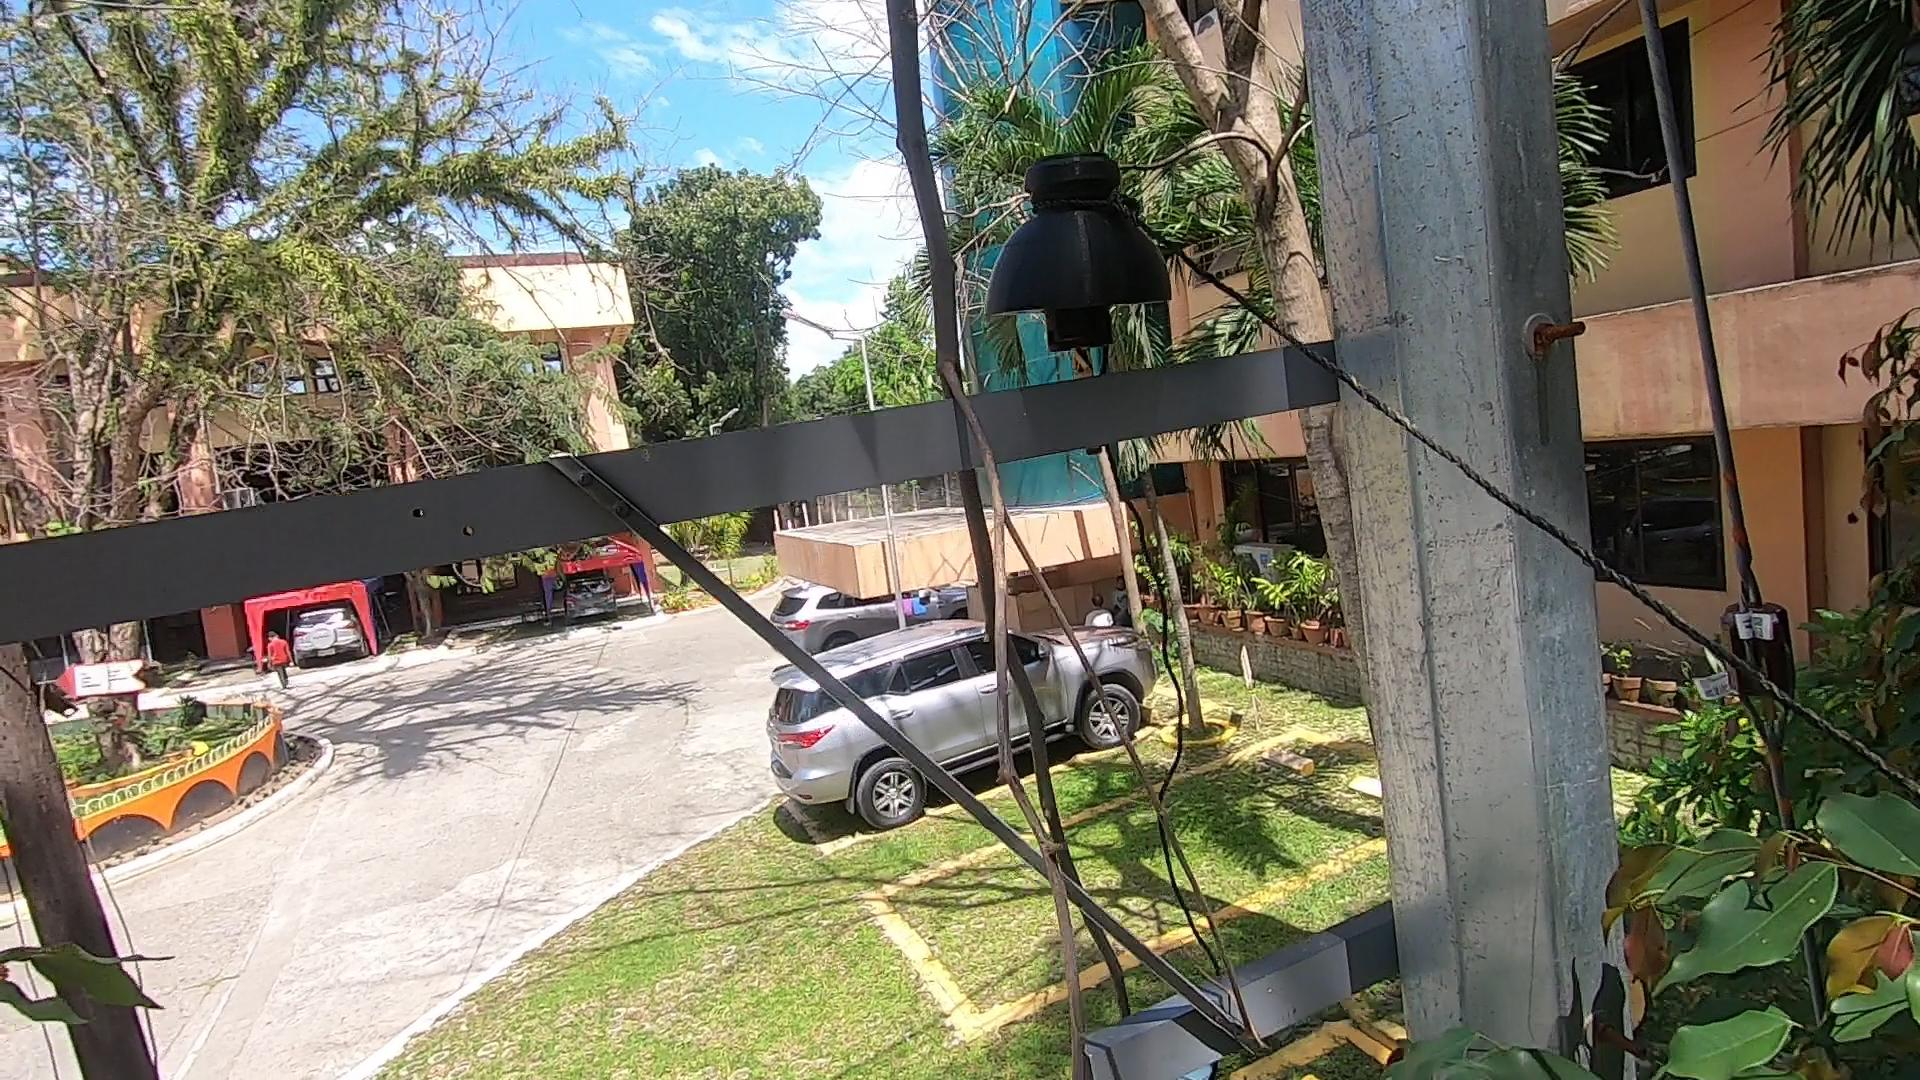tree branch: (852, 9, 1179, 1080)
